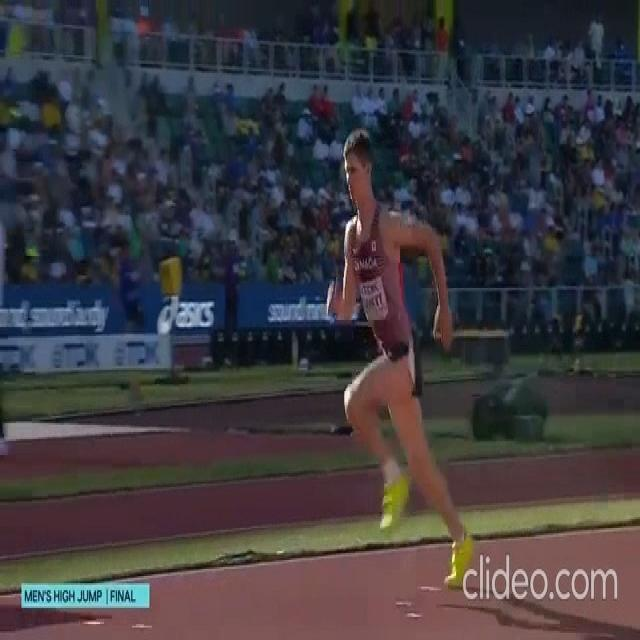run: (330, 137, 464, 584)
